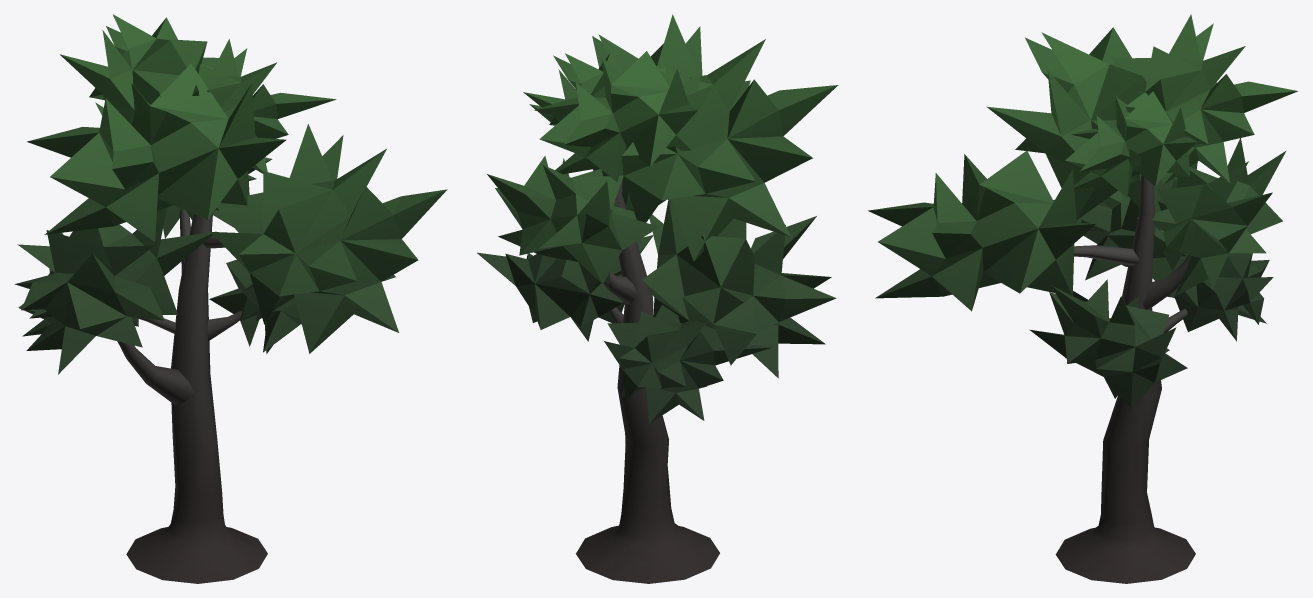
File: prop_tree_B.FBX
3 views of the same model, side by side, from view 1: azimuth 30°, elevation 25°; view 2: azimuth 150°, elevation 25°; view 3: azimuth 270°, elevation 25° (orthographic). The views are drawn at different scales.
Visible parts, largest first — view 1: prop_tree_b; view 2: prop_tree_b; view 3: prop_tree_b.
Part boxes in pixels (box(x1,y1,x2,y2)): prop_tree_b: box(14, 14, 447, 583); prop_tree_b: box(477, 14, 838, 583); prop_tree_b: box(868, 14, 1298, 583).
Size of the model in its own units: 149 by 220 by 169.
1 material, 1 textured.
